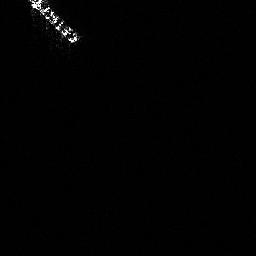ship: (27, 1, 82, 44)
